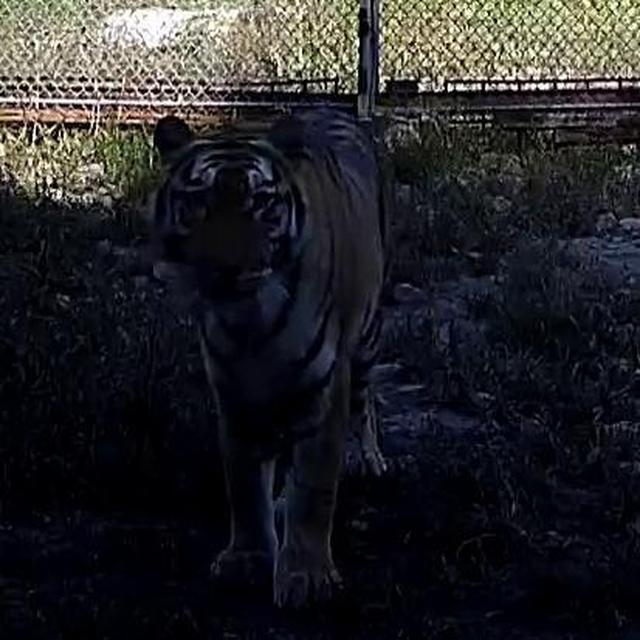tiger: (135, 56, 413, 627)
